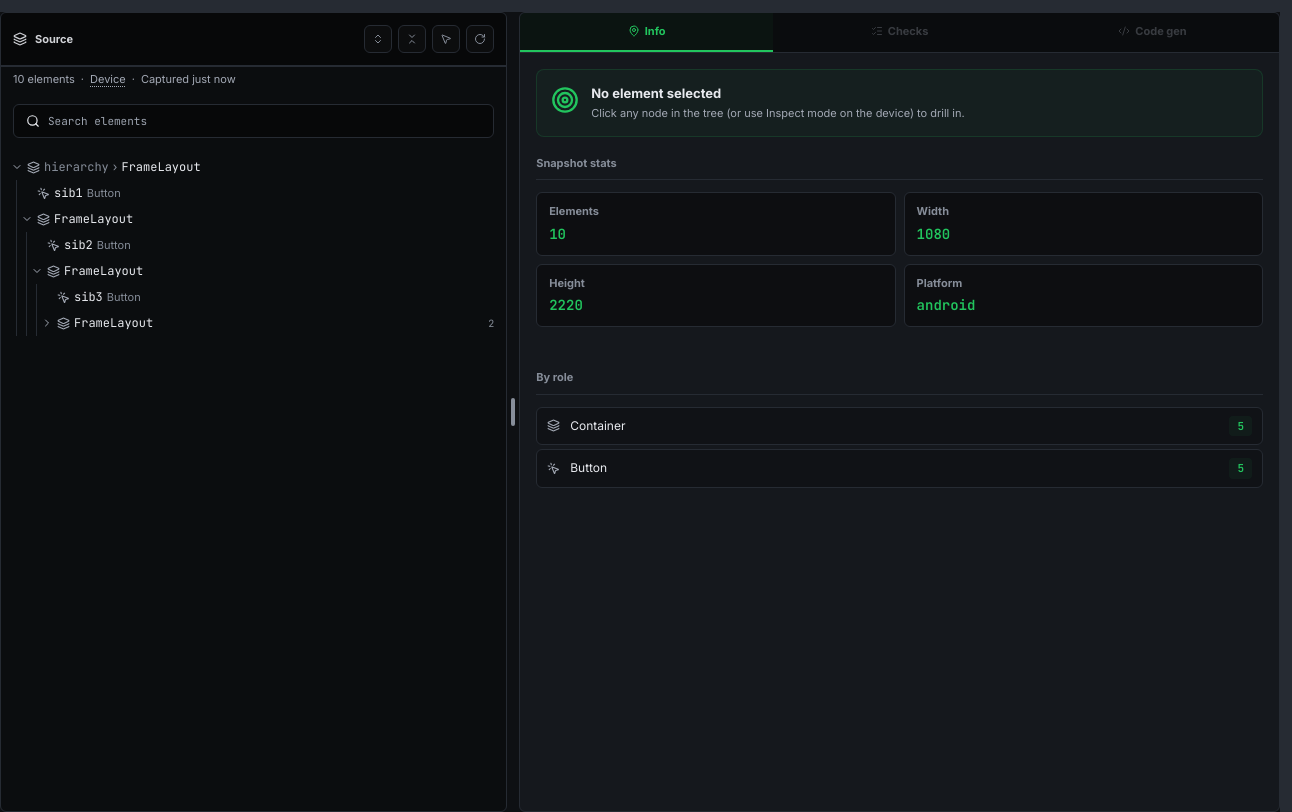
OmniInspector — tree › reveals a node picked on the phone
Expected: the element named "Element tree" is shown, [5,154,502,336]
Expected: the list item "Voice search" is not shown
The mic is the deepest leaf, so its hit area is drawn last.
Click the 5th element with class "omni-hit-area" at coordinates (130, 26), box [12,16,249,37]
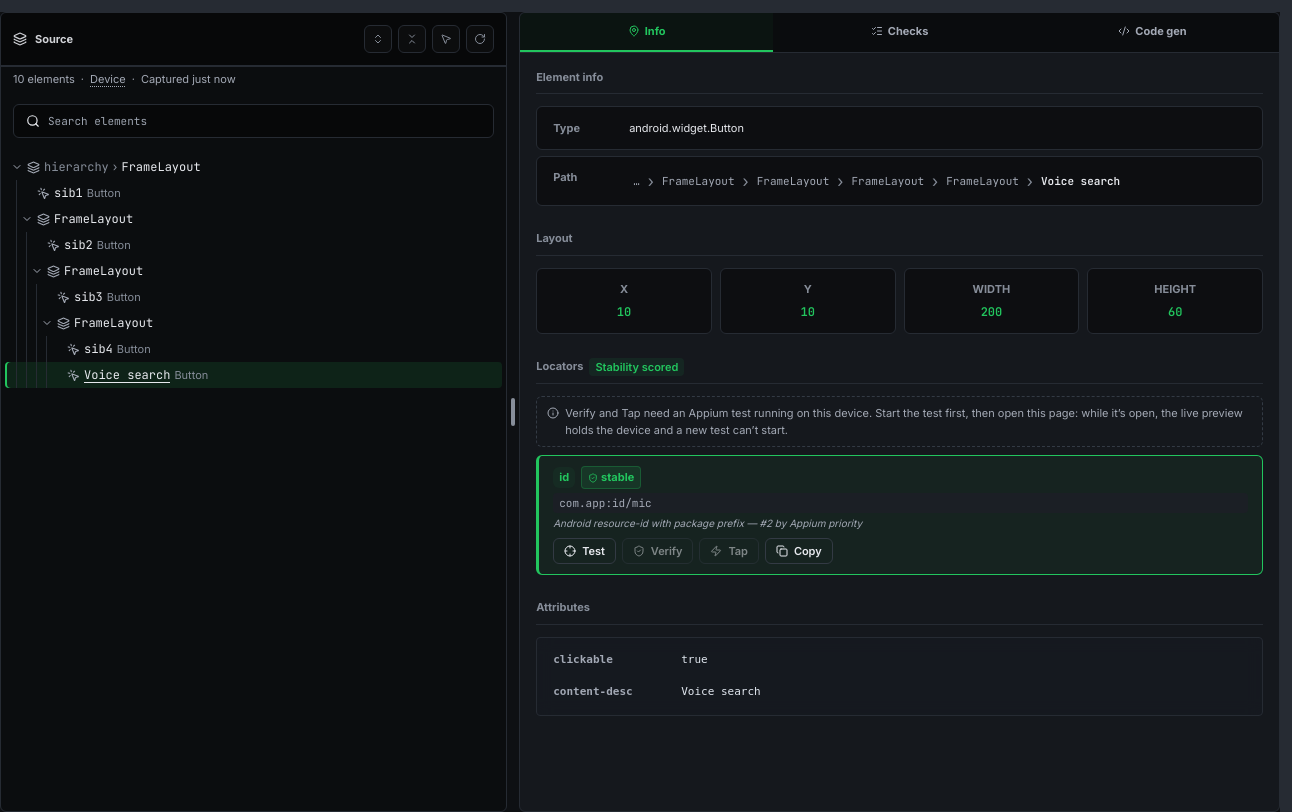
Expected: the list item "Voice search Button" is shown, [5,362,502,388]
